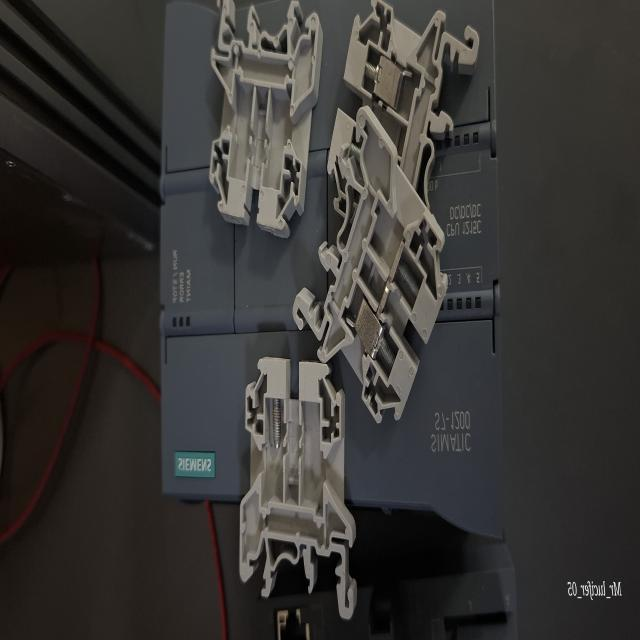Reject: (289, 108, 446, 421), (238, 358, 356, 620), (205, 0, 322, 238)
